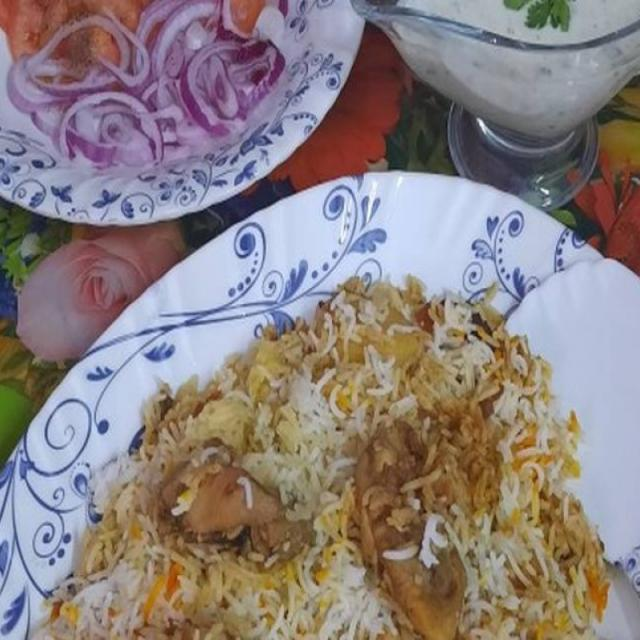Biryani: (41, 280, 606, 639)
